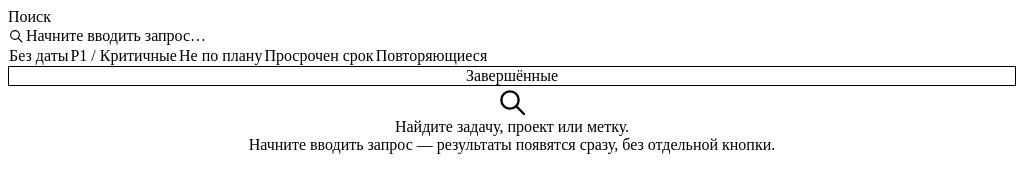
Test: Search — Системные фильтры, M34 (01§16, E12.3) › завершённая задача не попадает ни в один фильтр, даже если формально подходит по всем полям
The width and height of the screenshot is (1024, 171).
Click the button "Без даты" at point(39, 56), box 8,46 -> 69,66
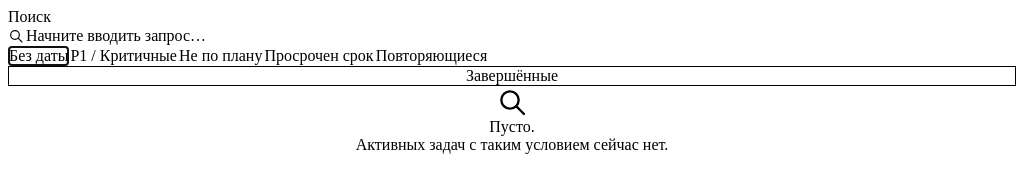
Result: the text "Пусто." is shown at 489,118 -> 535,136
Click the button "Без даты" at point(39, 56), box 8,46 -> 69,66
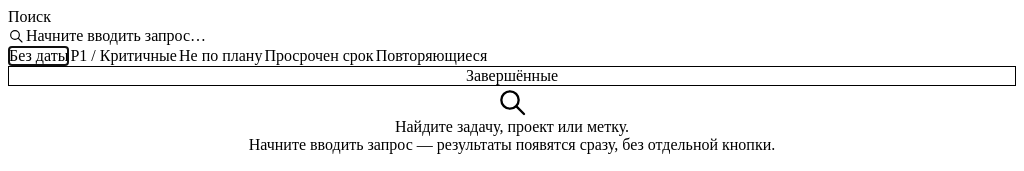
Click the button "P1 / Критичные" at point(124, 56), box 69,46 -> 178,66
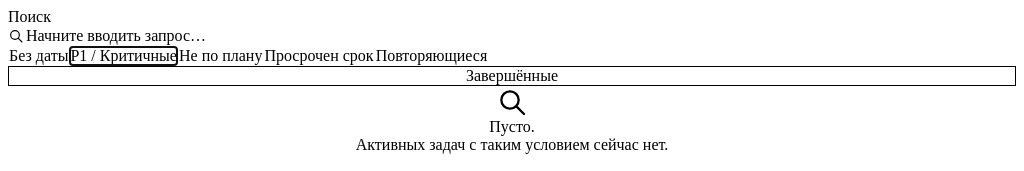
Result: the text "Пусто." is shown at 489,118 -> 535,136
